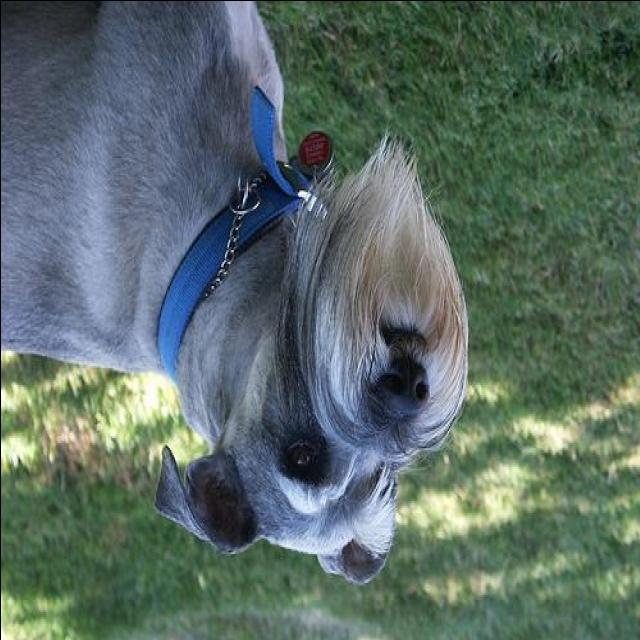standard_schnauzer: (0, 1, 466, 584)
